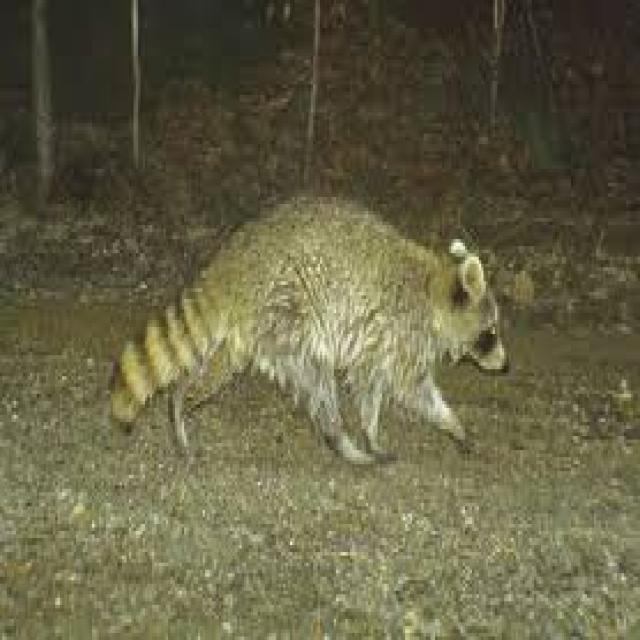Raccoon: (110, 177, 514, 460)
